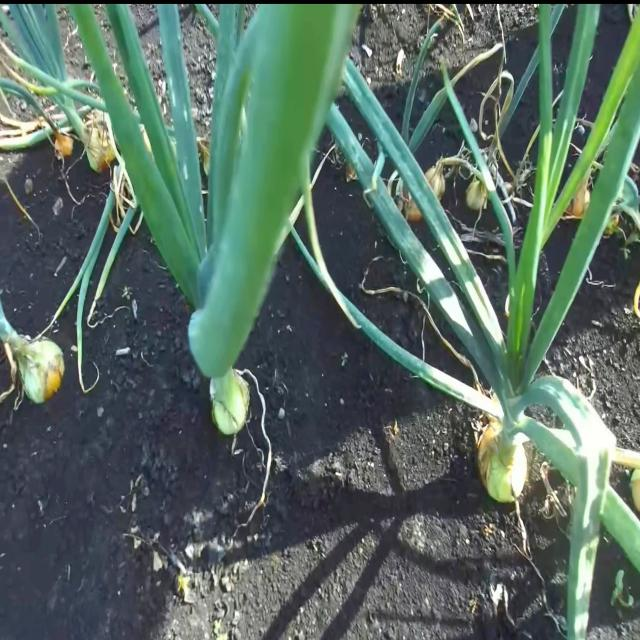onion: (0, 267, 65, 407), (477, 418, 528, 504), (210, 367, 250, 436), (630, 467, 640, 513)
